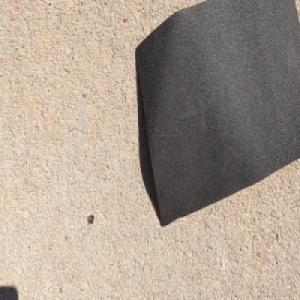PaintChip: (133, 0, 300, 229)
